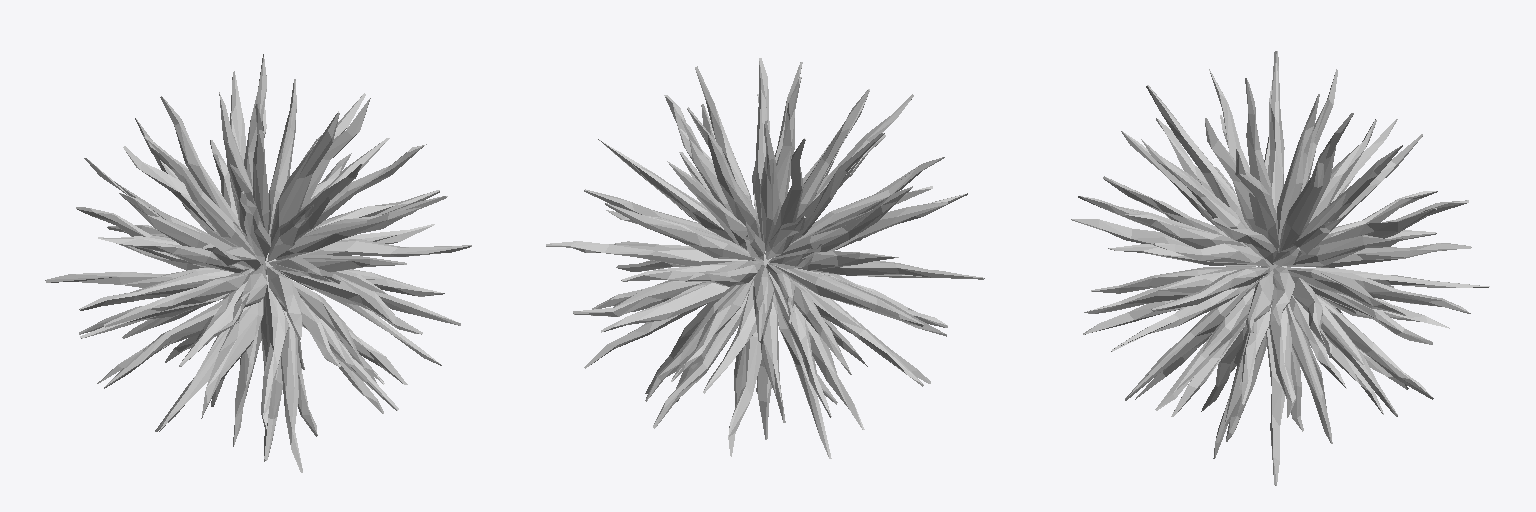
Rendered from SeaUrchin2.obj.
The picture shows the model from 3 angles: view 1: azimuth 30°, elevation 25°; view 2: azimuth 150°, elevation 25°; view 3: azimuth 270°, elevation 25°; orthographic projection.
Visible parts, largest first — view 1: Sea_Urchin; view 2: Sea_Urchin; view 3: Sea_Urchin.
Boxes of the visible parts, x1,y1,x2,y2 form: Sea_Urchin: [45, 54, 471, 472]; Sea_Urchin: [546, 58, 984, 458]; Sea_Urchin: [1071, 51, 1489, 485].
Bounding box in the file's own units: 21.57 × 19.06 × 21.27.